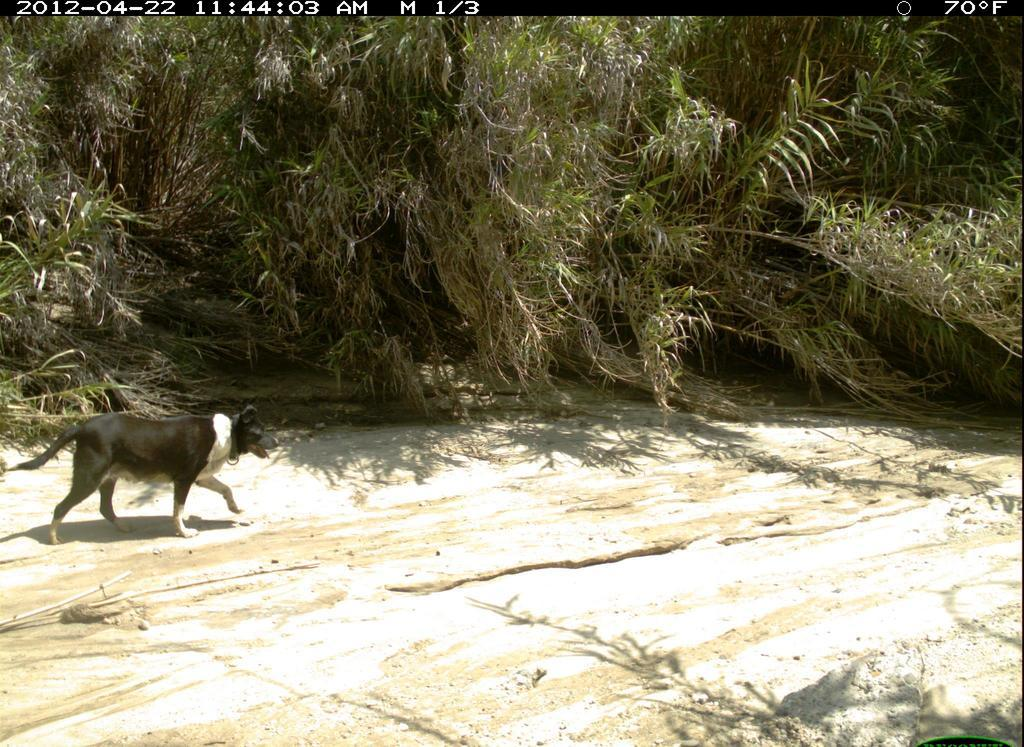dog: (11, 404, 296, 542)
